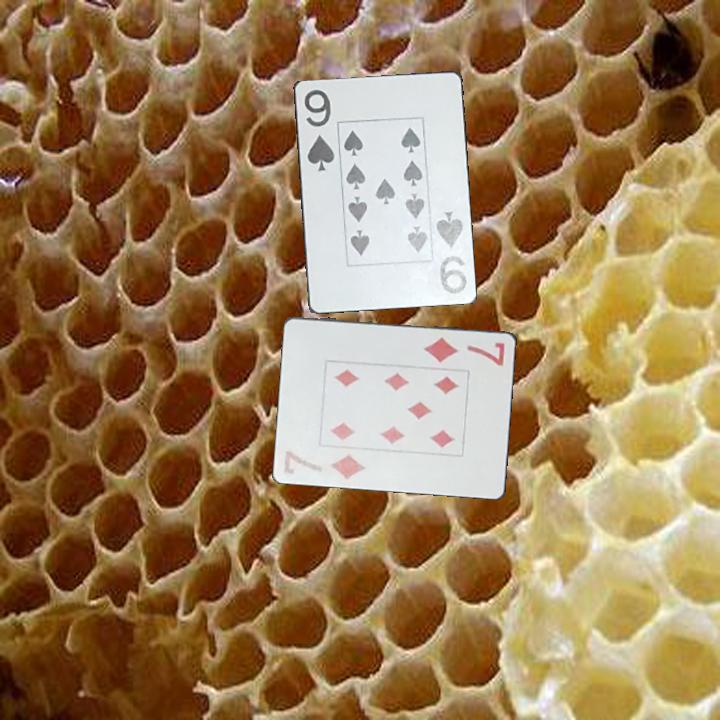7d: (281, 447, 369, 482), (420, 334, 508, 368)
9s: (300, 86, 337, 174), (432, 208, 469, 296)
